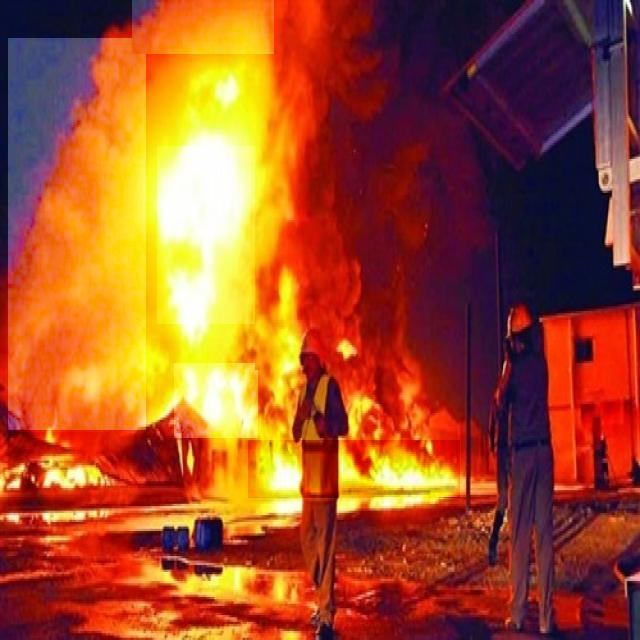Fire: (158, 146, 262, 324), (248, 440, 460, 498), (8, 432, 109, 506), (174, 363, 258, 438)
Smoke: (255, 6, 464, 370), (8, 38, 146, 430), (132, 0, 274, 54)
